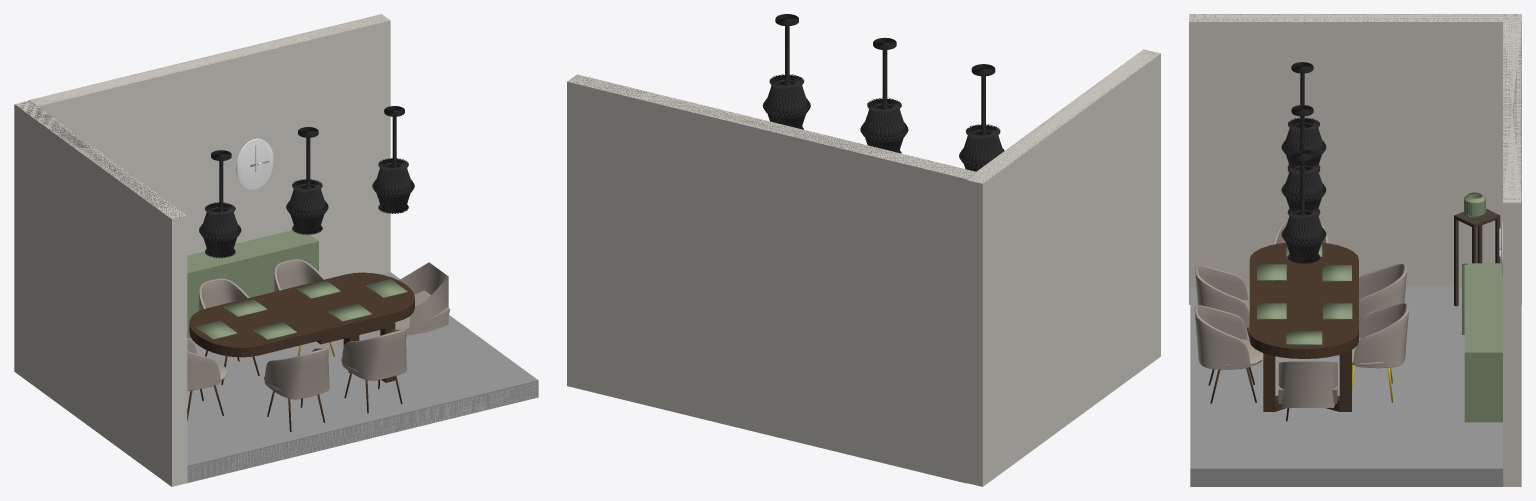
3 renders of one model, left to right at view 1: azimuth 30°, elevation 25°; view 2: azimuth 150°, elevation 25°; view 3: azimuth 270°, elevation 25°, orthographic. The views are drawn at different scales.
Visible parts, largest first — view 1: Cube.001, Cube.002, Cube, Cube.008, Cube.003, Plane.001, Plane.002, Cylinder.007, Cylinder.008, Cylinder.006, Plane, Cylinder.010 (+5 smaller); view 2: Cube.001, Cube.002, Cylinder.007, Cylinder.008, Cylinder.006; view 3: Cube.002, Cube, Cube.008, Cube.001, Cube.003, Plane.001, Plane.004, Plane, Cylinder.008, Plane.002, Plane.005, Cylinder.007 (+9 smaller).
Boxes of the visible parts, x1,y1,x2,y2 form: Cube.001: (28, 14, 390, 278); Cube.002: (14, 100, 187, 486); Cube: (187, 272, 538, 482); Cube.008: (189, 272, 414, 357); Cube.003: (187, 230, 318, 338); Plane.001: (342, 329, 406, 380); Plane.002: (264, 348, 329, 399); Cylinder.007: (286, 127, 328, 234); Cylinder.008: (372, 106, 414, 213); Cylinder.006: (199, 150, 241, 258); Plane: (399, 262, 448, 335); Cylinder.010: (236, 138, 273, 189); Cube.001: (567, 74, 976, 483); Cube.002: (965, 49, 1160, 486); Cylinder.007: (860, 37, 908, 153); Cylinder.008: (762, 14, 810, 129); Cylinder.006: (959, 64, 1004, 171); Cube.002: (1189, 14, 1521, 304); Cube: (1190, 287, 1503, 486); Cube.008: (1249, 242, 1358, 358); Cube.001: (1503, 20, 1521, 486); Cube.003: (1464, 263, 1502, 422); Plane.001: (1194, 305, 1250, 369); Plane.004: (1353, 303, 1409, 368); Plane: (1278, 361, 1337, 407); Cylinder.008: (1281, 149, 1326, 263); Plane.002: (1195, 265, 1249, 328); Plane.005: (1359, 263, 1407, 321); Cylinder.007: (1281, 105, 1326, 215).
Bounding box in the file's own units: 5.67 × 3.99 × 4.21.
